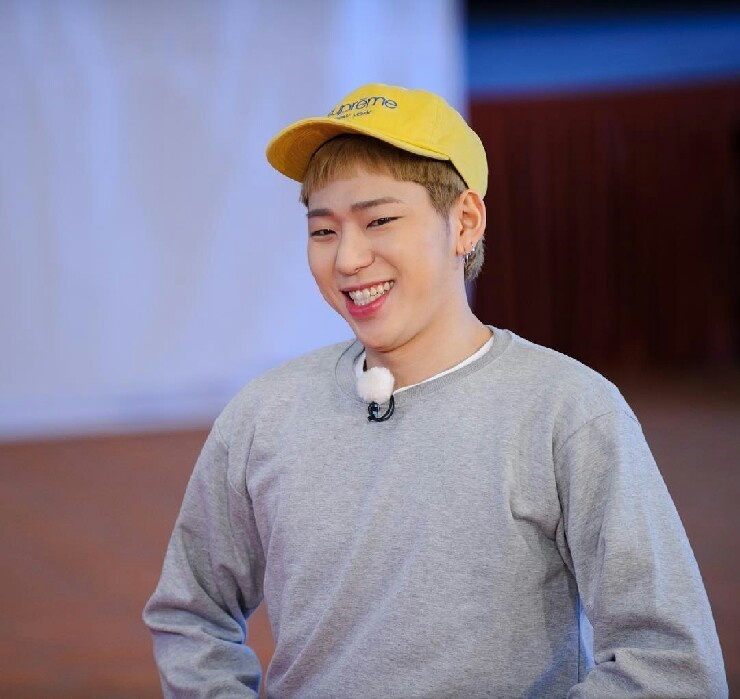mask: (307, 254, 457, 352)
